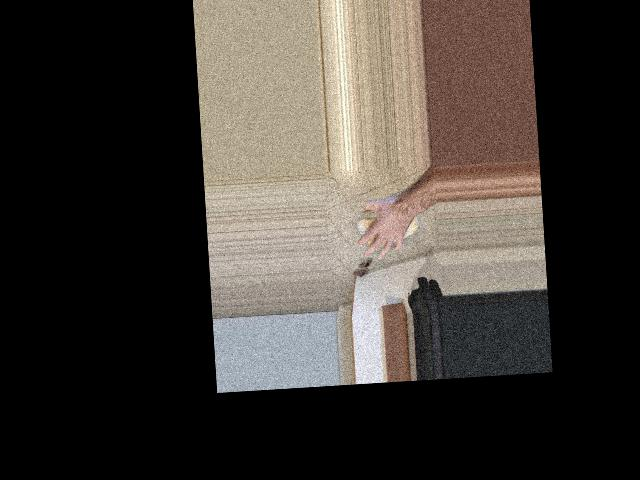cheese: (352, 190, 421, 259)
